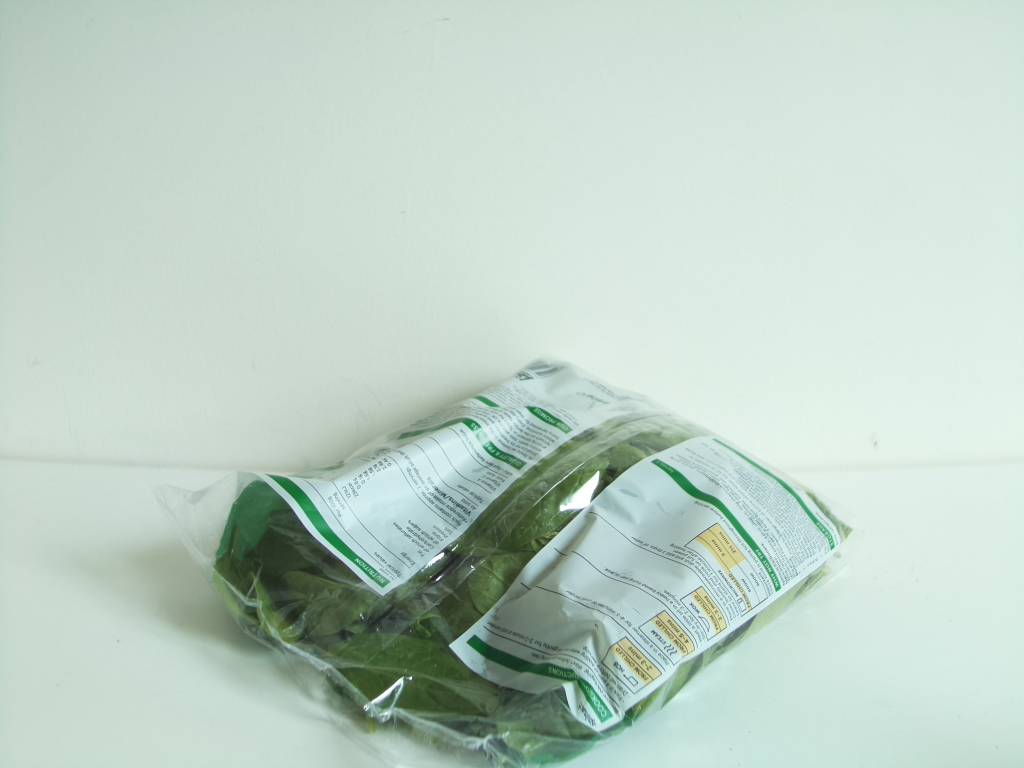salad: (208, 356, 856, 766)
